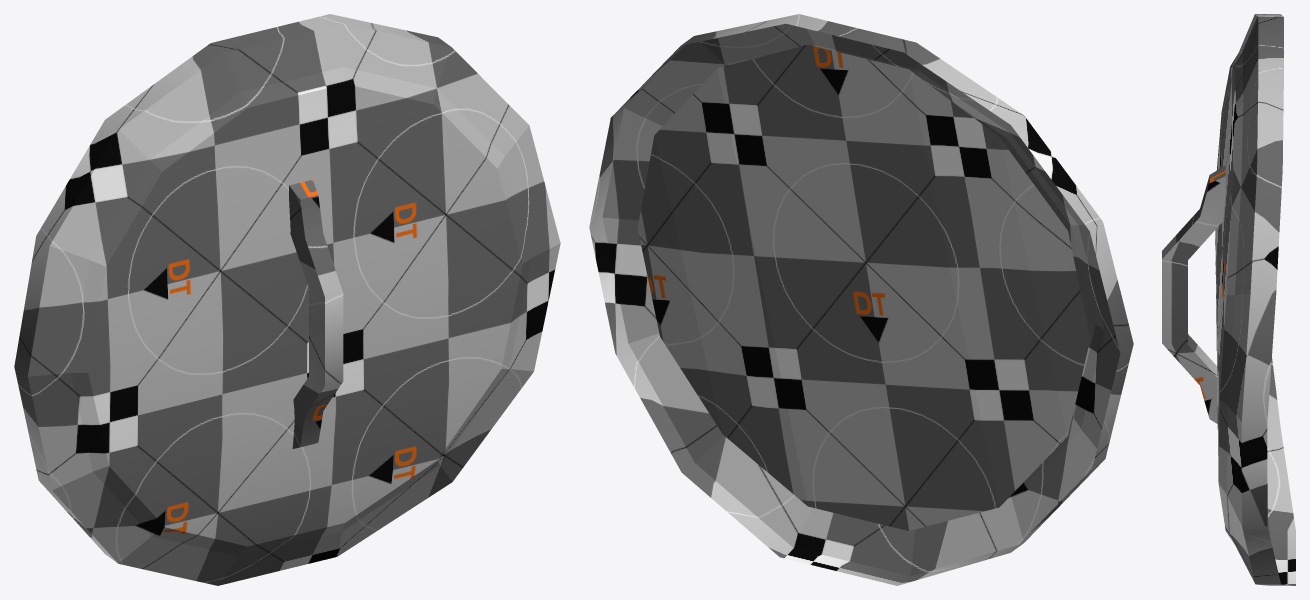
The model's file is couvercle-poubelle.FBX.
3 renders of one model, left to right at view 1: azimuth 30°, elevation 25°; view 2: azimuth 150°, elevation 25°; view 3: azimuth 270°, elevation 25°, orthographic. The views are drawn at different scales.
Visible parts, largest first — view 1: couvercle; view 2: couvercle; view 3: couvercle.
Part boxes in pixels (box(x1,y1,x2,y2)): couvercle: box(14, 14, 560, 585); couvercle: box(589, 14, 1133, 585); couvercle: box(1162, 14, 1295, 585).
Bounding box in the file's own units: 41.43 × 39.68 × 9.37.
Materials: 1 (1 with a texture image).
